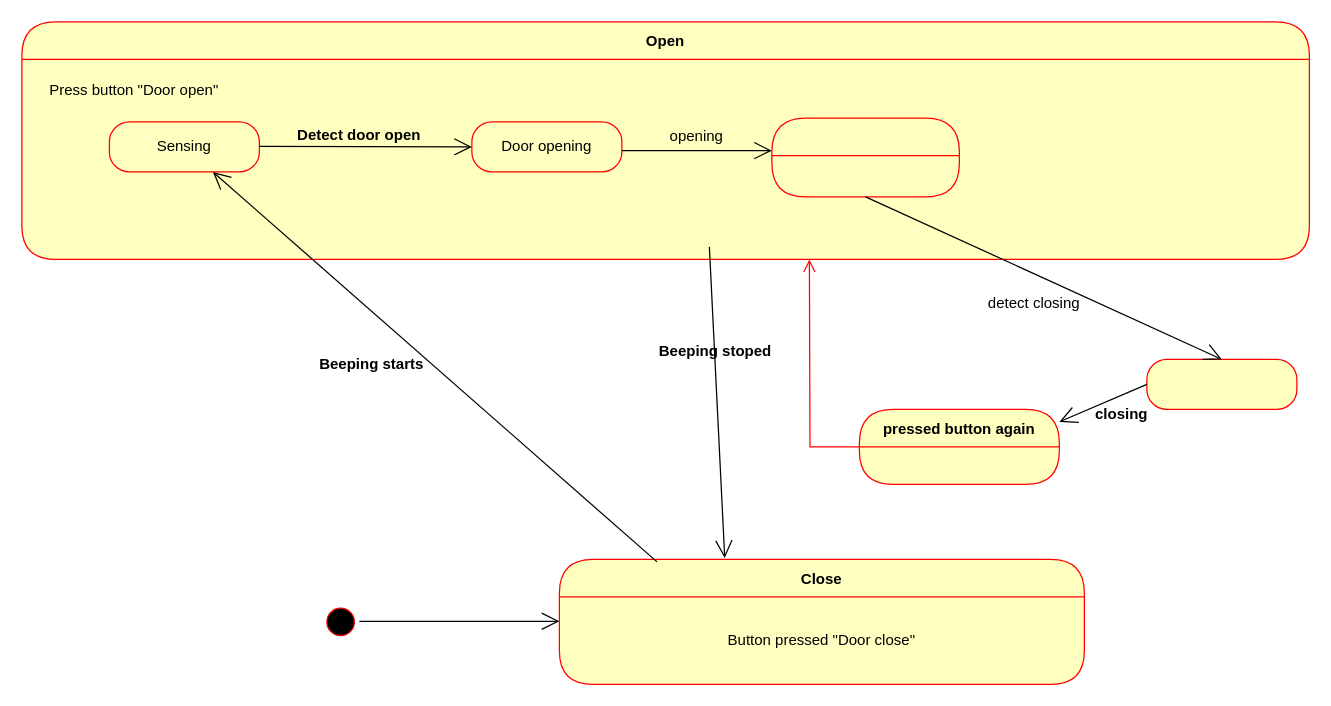
Some shapes in this 1331 by 706 pixel diagram are drawn without their labels. Here are the shapes that lost their labels. From the top down, the centre of each, then its label:
At [865,157]: "button pressed again".
At [1221,383]: "Door closing".
